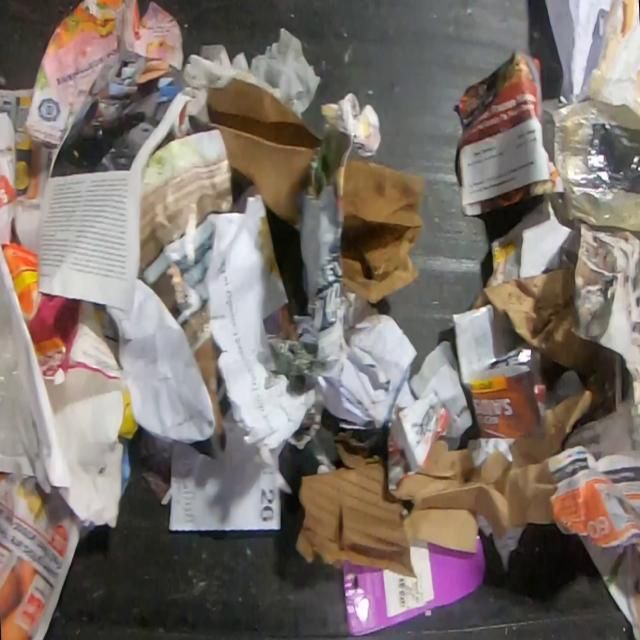cardboard: (23, 0, 184, 148), (189, 77, 323, 231), (294, 429, 415, 576), (341, 531, 486, 639), (338, 159, 427, 305)
soft_plastic: (552, 97, 640, 232)
